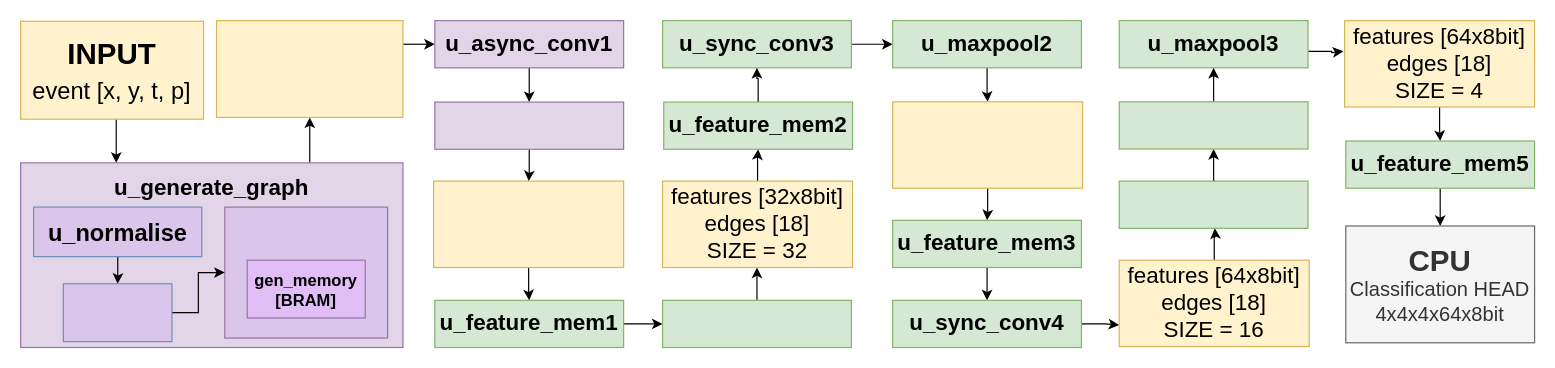
This 1555x368 diagram has some shape labels left out. The shapes that lost their labels are listed below. From the top down, each one's box as (x1, y1, x2, y2) in pixels, then its label:
(215, 19, 403, 117): event [x, y, t, p] edges [p, Δt] [29] SIZE = 128
(434, 101, 624, 149): u_maxpool1
(891, 101, 1083, 188): features [32x8bit] edges [18 ] SIZE = 16
(1118, 101, 1308, 149): u_sync_conv5
(432, 180, 624, 268): features [16x8bit] edges [18 ] SIZE = 32
(1118, 180, 1308, 228): u_feature_mem4
(224, 206, 388, 338): u_edges_gen
(62, 283, 172, 342): fifo_0
(661, 299, 851, 348): u_sync_conv2
